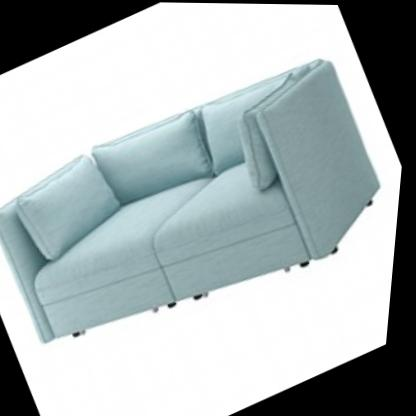Sofa: (0, 12, 415, 393)
